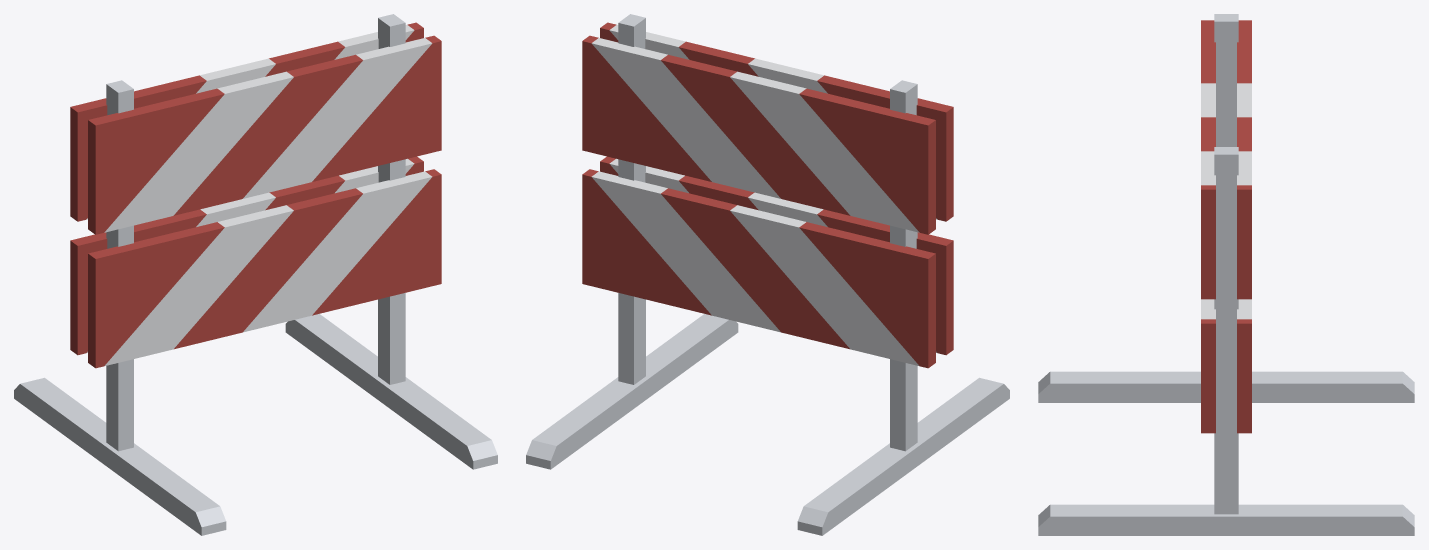
Rendered from Wood_Road_Block_Small_001.glb.
3 renders of one model, left to right at view 1: azimuth 30°, elevation 25°; view 2: azimuth 150°, elevation 25°; view 3: azimuth 270°, elevation 25°, orthographic.
Visible parts, largest first — view 1: Wood Road Block Small.001; view 2: Wood Road Block Small.001; view 3: Wood Road Block Small.001.
Boxes of the visible parts, x1,y1,x2,y2 form: Wood Road Block Small.001: (14,14,497,535); Wood Road Block Small.001: (526,14,1009,535); Wood Road Block Small.001: (1038,14,1414,535).
Size of the model in its own units: 6.62 by 6.91 by 6.21.
1 material, 1 textured.
